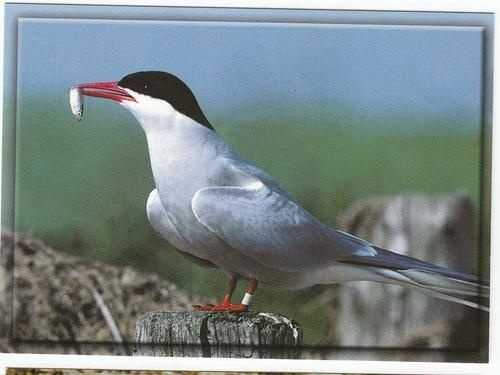bird: (70, 69, 495, 319)
